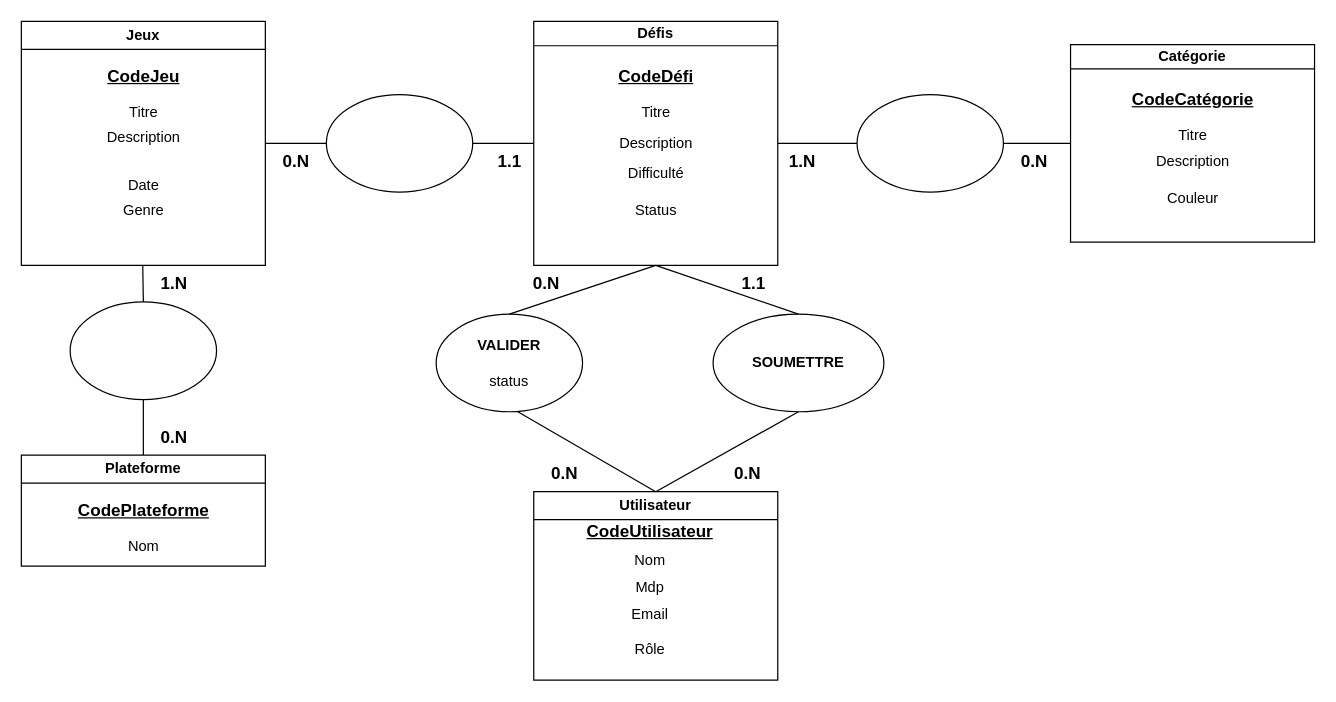
This 1336x702 diagram has some shape labels left out. The centre of each missing label's shape, as x and y in pixels:
APPARTENIR: (399,142)
DEFINIR: (929,142)
SUPPORTER: (143,350)
